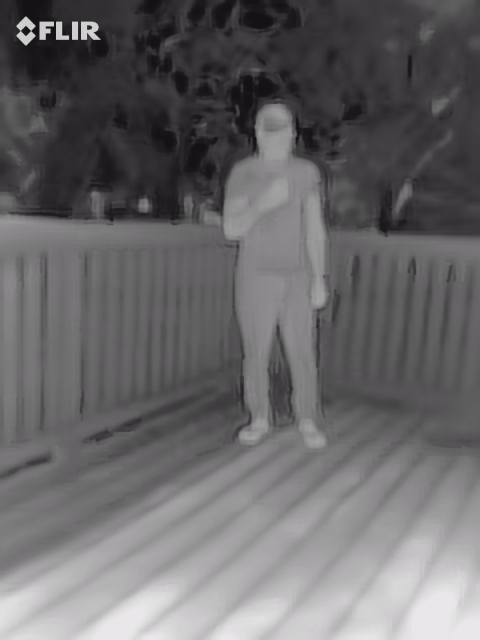head: (254, 104, 296, 157)
